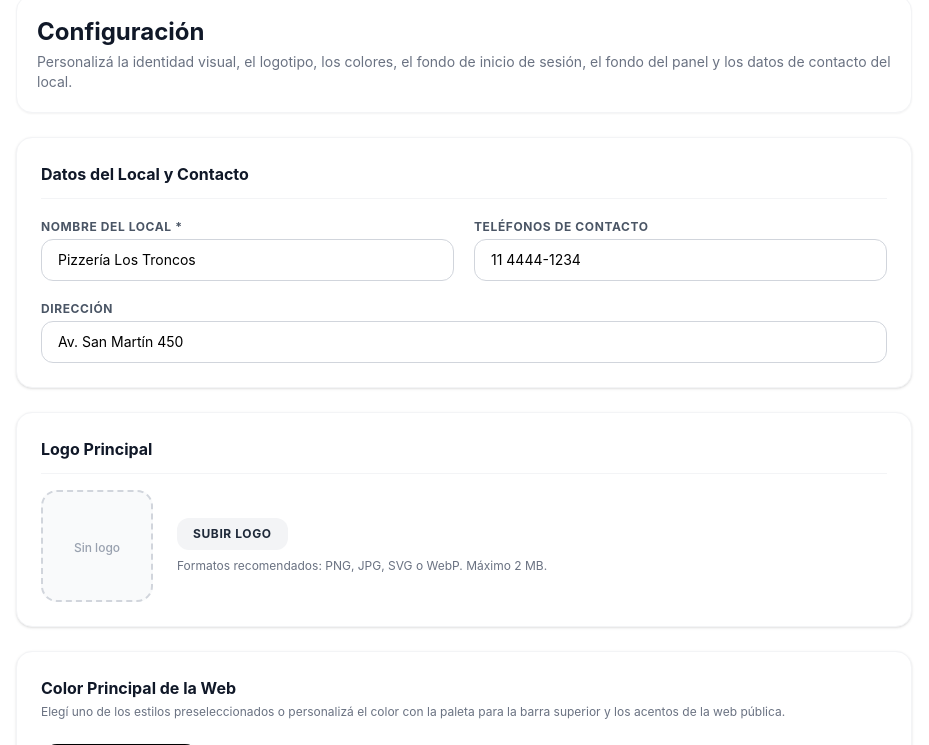
Test case: ConfiguracionWebView › permite editar los datos de contacto y guardarlos
Replace the text in the field labelled "Nombre del local *" with "Pizzería Don Mario". click: x=248, y=260
box: [41,239,454,281]
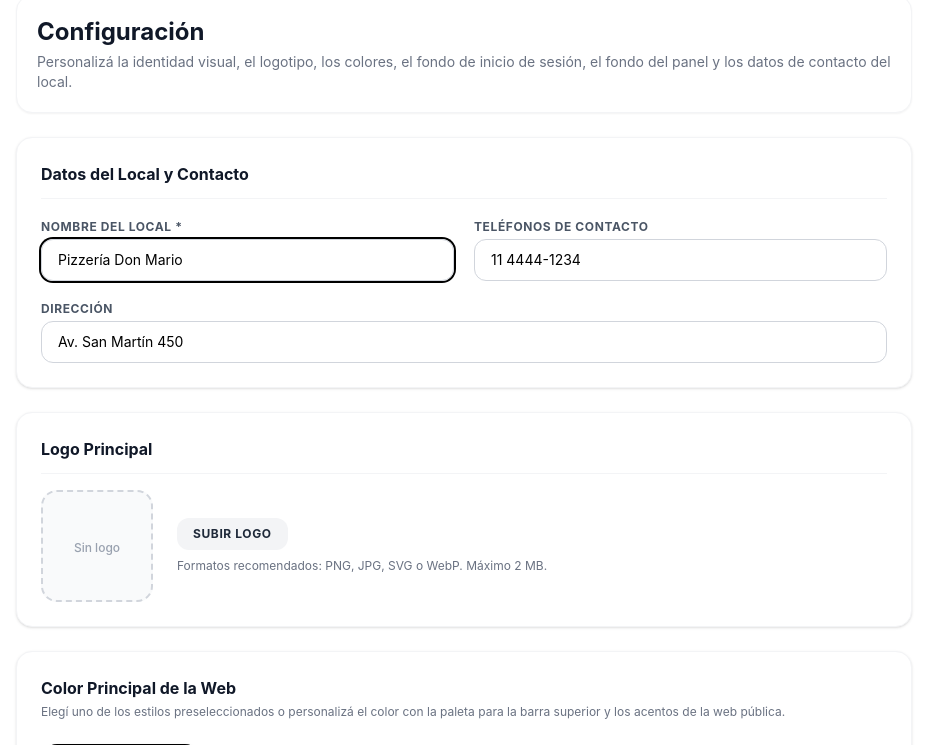
Replace the text in the field labelled "Teléfonos de contacto" with "11 9999-0000". click: x=680, y=260
box: [474,239,887,281]
(page scrolled)
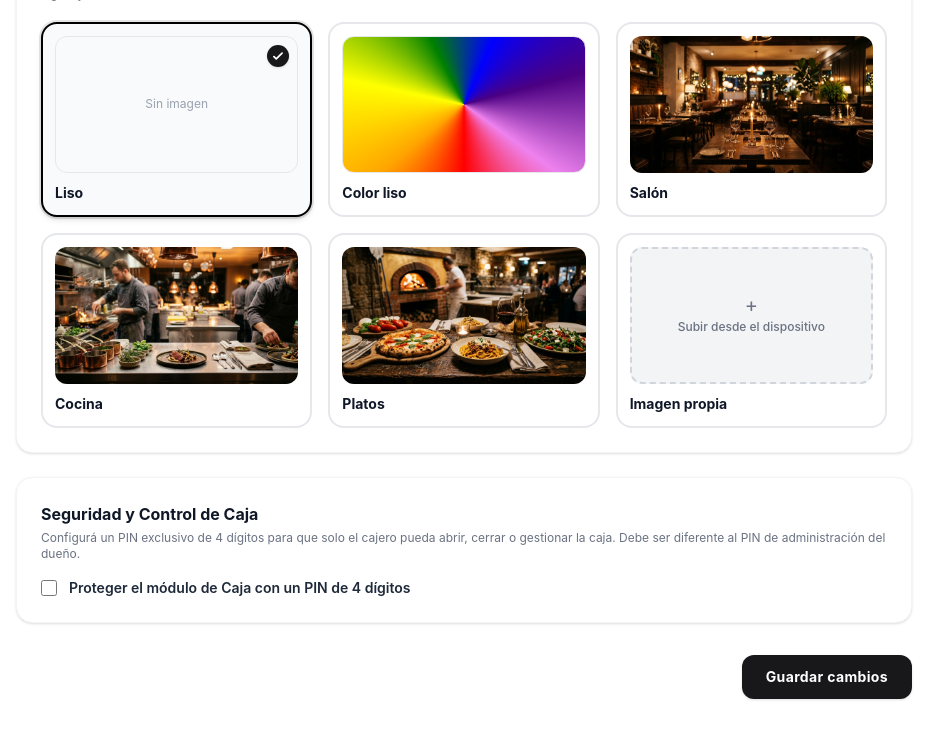
Click the button "Guardar cambios". click: x=827, y=676
box: [742,654,912,698]
(page scrolled)
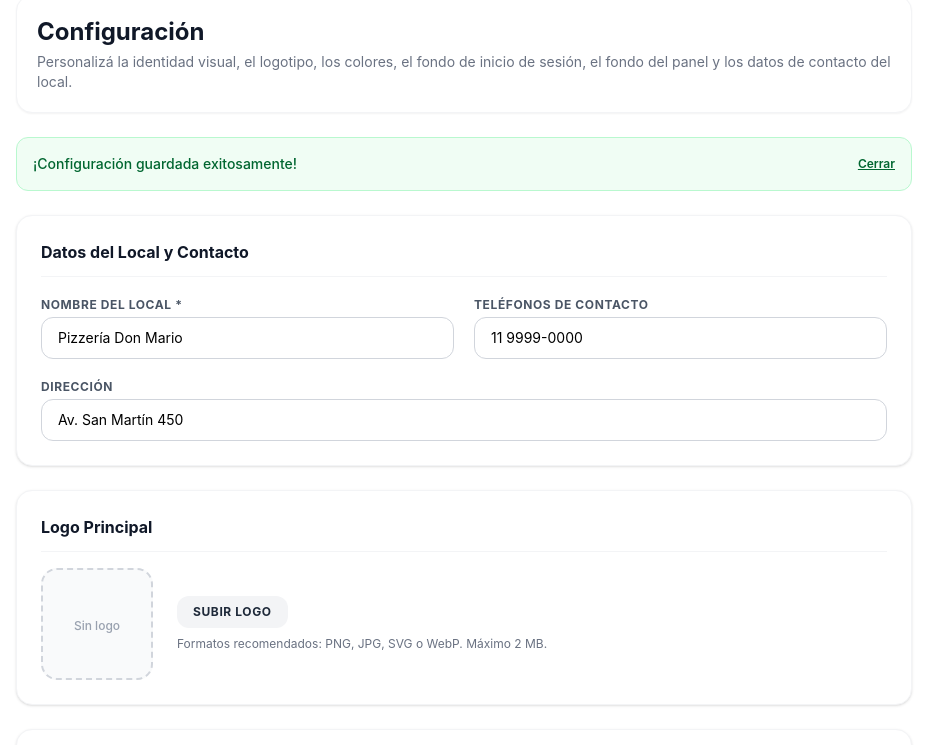
Expected: the text "¡Configuración guardada exitosamente!" is shown, [33,154,297,174]
